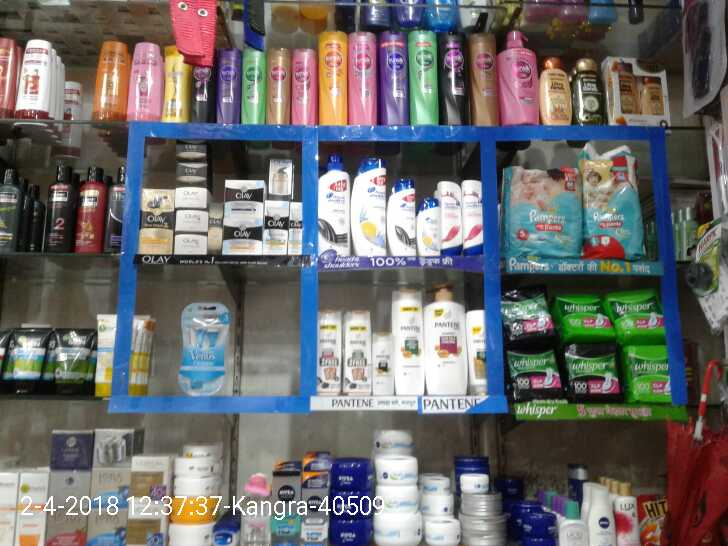venus: (177, 301, 230, 393)
